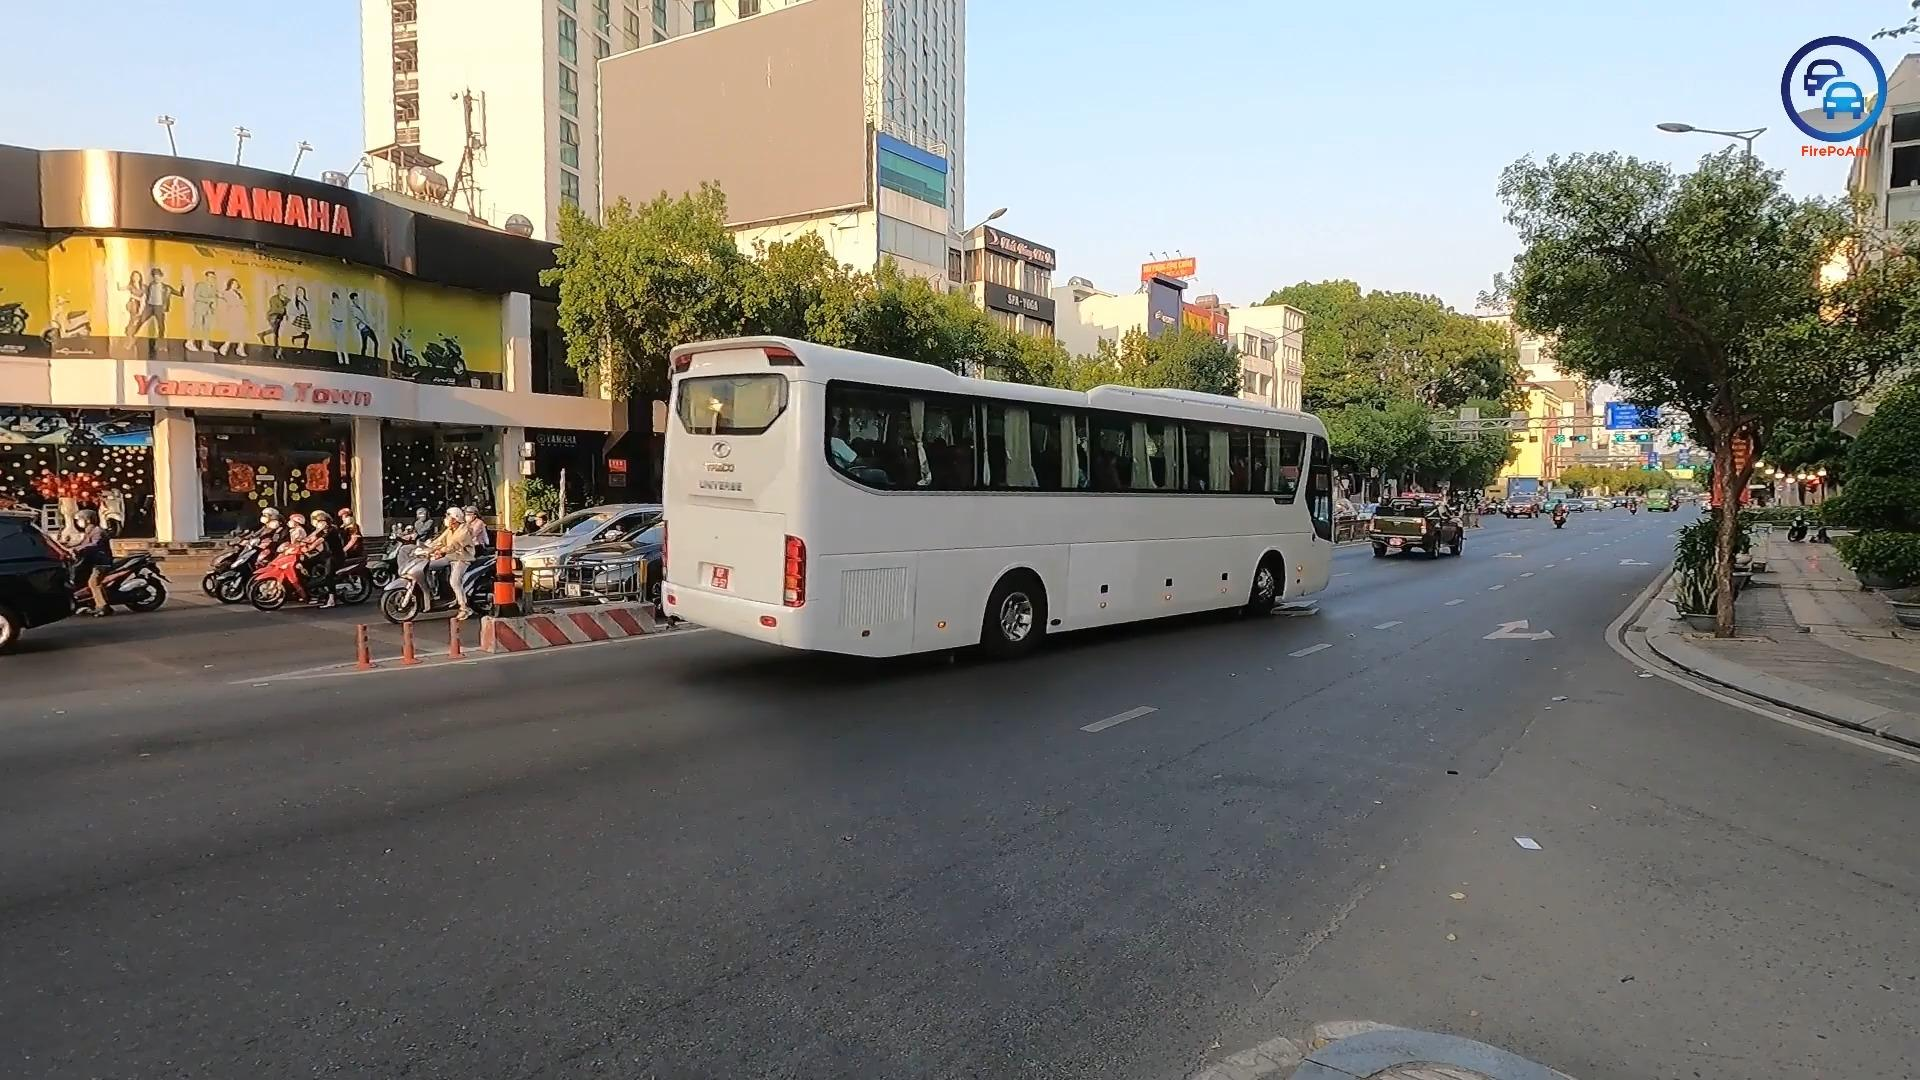bien_so: (710, 565, 730, 590)
